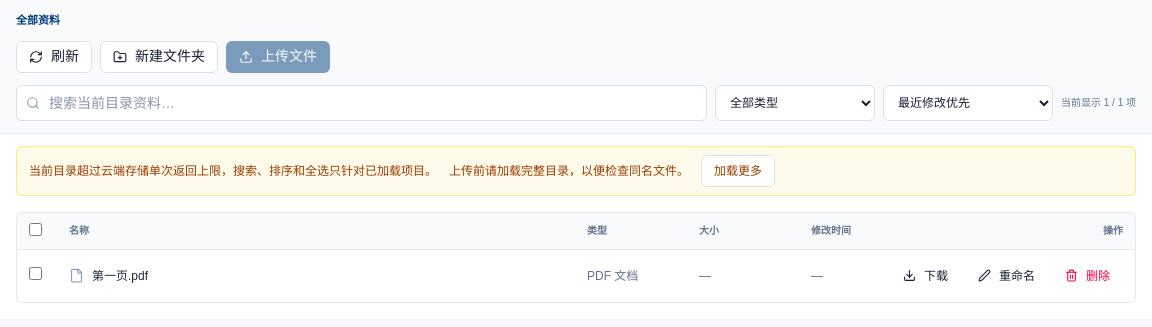
Test case: research library directory request ordering › keeps partial results after a failed continuation and clears them when authorization is denied
This screenshot has width=1152, height=327.
Click the button "加载更多": (738, 170) [701,154,775,186]
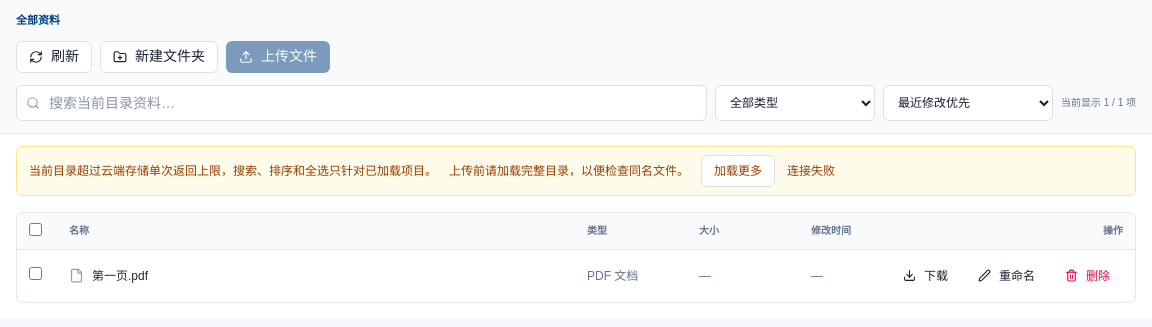
Expected: the text "第一页.pdf" is shown, [92,268,148,284]
Expected: the text "连接失败" is shown, [787,162,835,178]
Click the button "加载更多": (738, 170) [701,154,775,186]
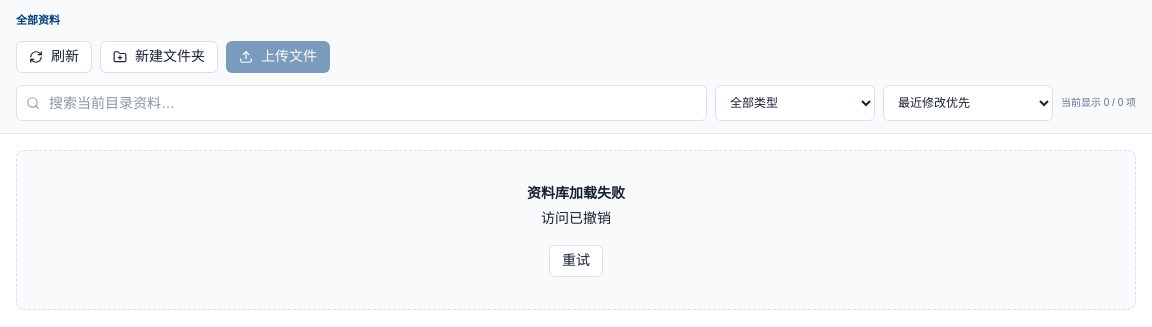
Expected: the text "访问已撤销" is shown, [541,208,611,228]
Expected: the button "第一页.pdf" is gone
Expected: the button "加载更多" is gone
